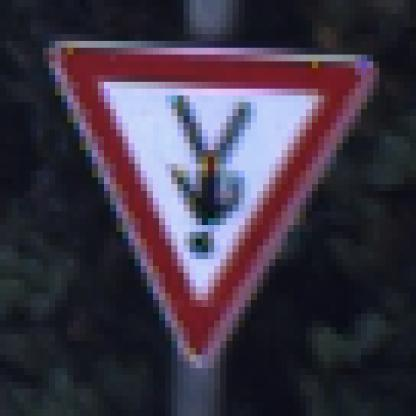crosswalk: (46, 16, 386, 366)
